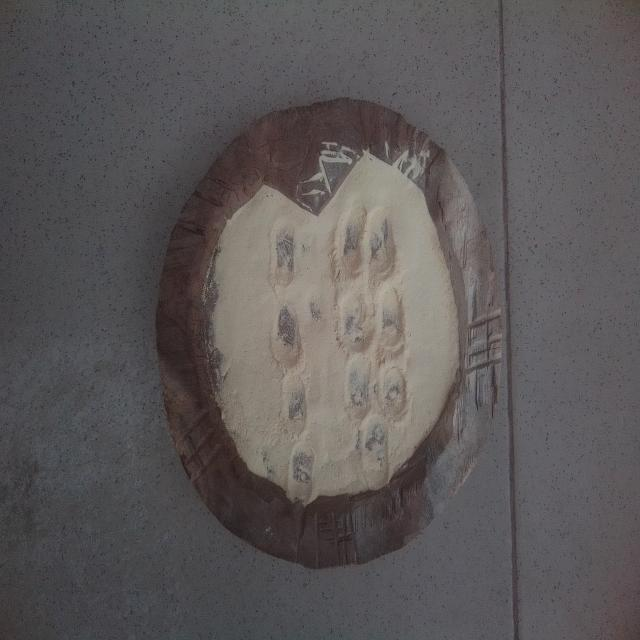double: (330, 284, 408, 356), (332, 200, 396, 282), (342, 354, 412, 418)
single: (270, 300, 306, 373), (266, 216, 300, 292), (358, 413, 391, 488), (284, 437, 320, 503), (275, 374, 311, 437)
